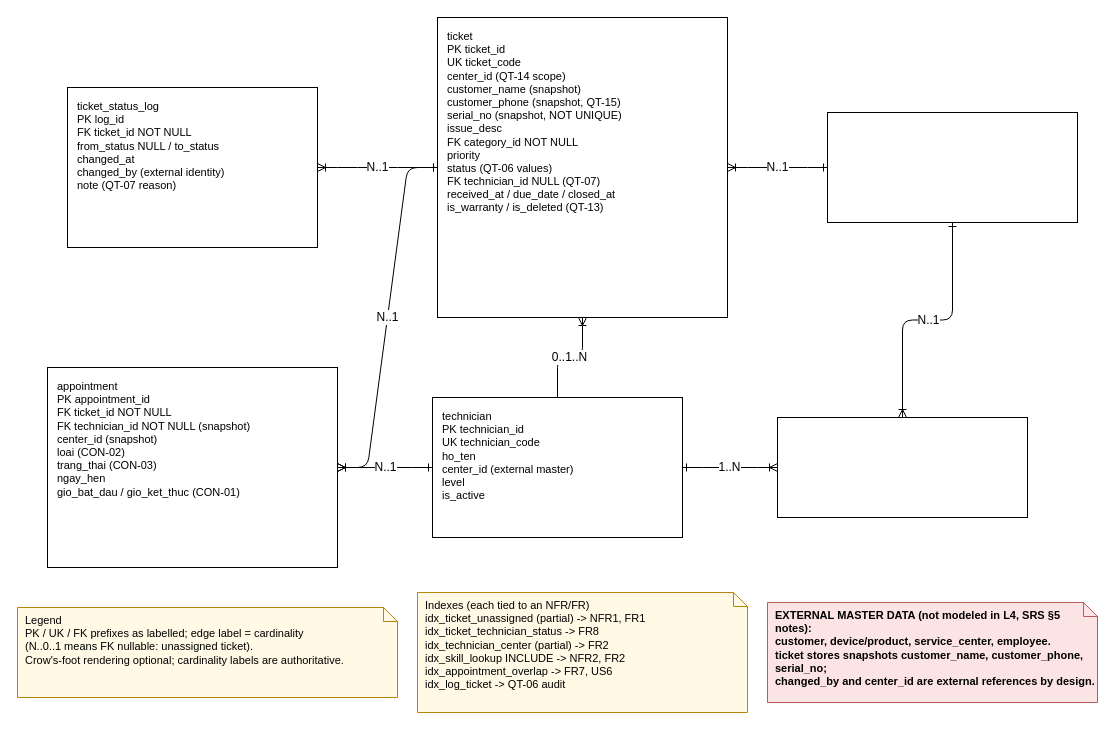
This 1115x730 diagram has some shape labels left out. Here are the shapes that lost their labels. From the top down, the centre of each, then its label:
At (952,167): "issue_category PK category_id UK category_name default_priority is_active".
At (902,467): "technician_skill PK,FK technician_id PK,FK category_id proficiency (1-5, CON-04)".
